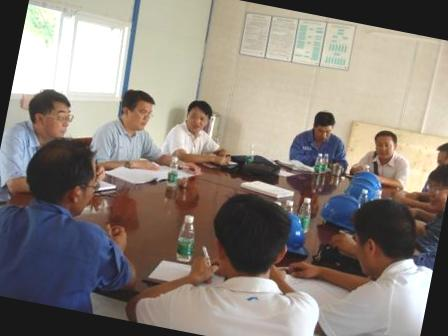no_helmet: (200, 181, 299, 288), (14, 130, 108, 223), (342, 191, 426, 284), (20, 82, 80, 148), (114, 82, 160, 136), (178, 97, 216, 142), (363, 124, 404, 165), (419, 159, 448, 212), (305, 106, 340, 144), (426, 136, 448, 177)
